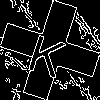K: (25, 25, 71, 79)
